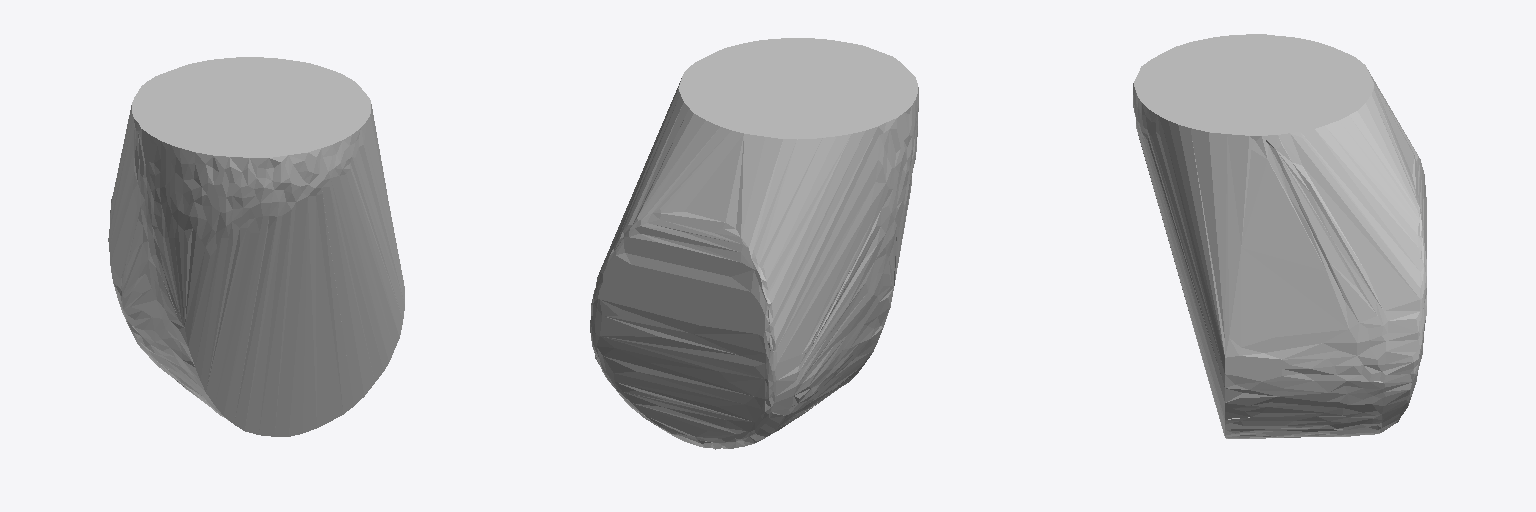
File: arm_3_collision.obj
3 views of the same model, side by side, from view 1: azimuth 30°, elevation 25°; view 2: azimuth 150°, elevation 25°; view 3: azimuth 270°, elevation 25° (orthographic).
Bounding box in the file's own units: 0.138 × 0.176 × 0.144.